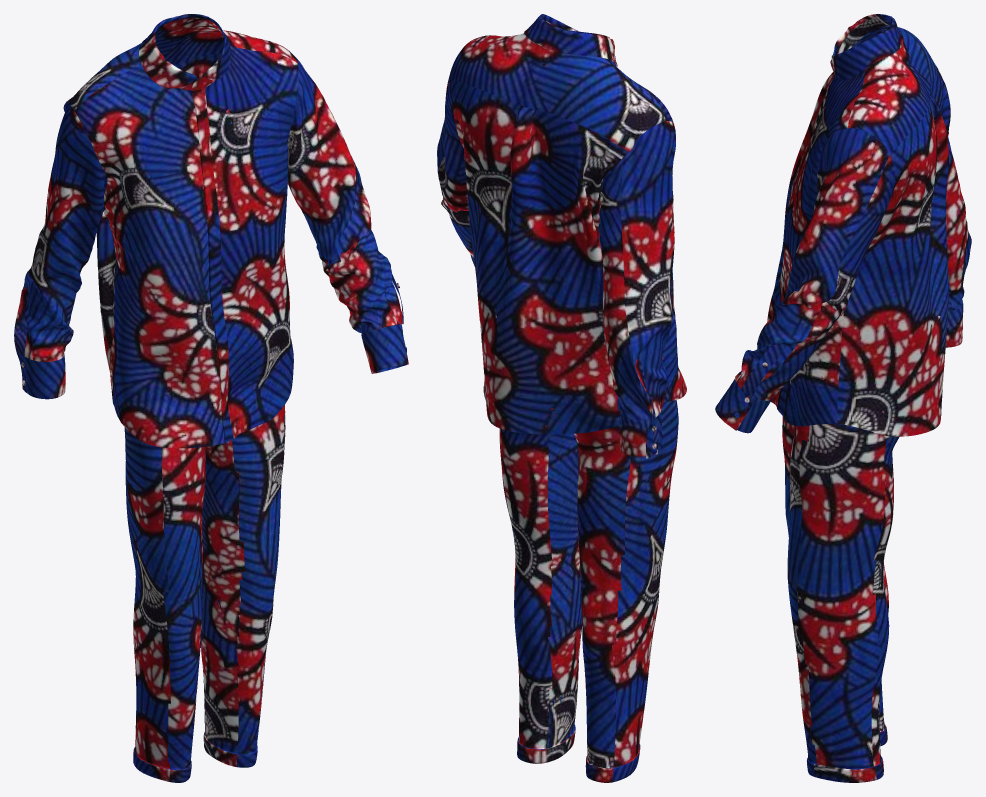
File: male_topndown.glb
3 views of the same model, side by side, from view 1: azimuth 30°, elevation 25°; view 2: azimuth 150°, elevation 25°; view 3: azimuth 270°, elevation 25° (orthographic). The views are drawn at different scales.
Parts seen in each view (by area): view 1: all; view 2: all; view 3: all.
Boxes of the visible parts, bbox=[...] form: all: bbox=[14, 14, 408, 782]; all: bbox=[437, 14, 686, 782]; all: bbox=[715, 14, 971, 782].
Size of the model in its own units: 0.3258 by 0.7882 by 0.2492.
Materials: 1 (1 with a texture image).
